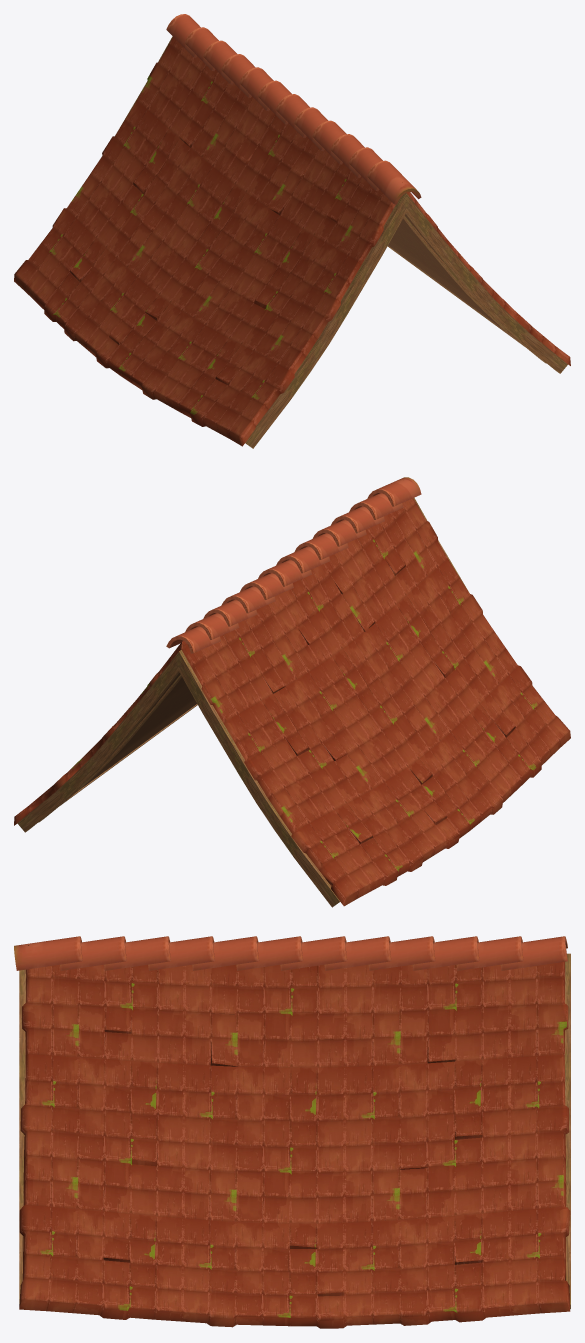
File: Roof_FlatTiles_6x8.gltf
The picture shows the model from 3 angles, top to bottom: view 1: azimuth 30°, elevation 25°; view 2: azimuth 150°, elevation 25°; view 3: azimuth 270°, elevation 25°; orthographic projection. The views are drawn at different scales.
Visible parts, largest first — view 1: Roof_FlatTiles_6x8; view 2: Roof_FlatTiles_6x8; view 3: Roof_FlatTiles_6x8.
Part boxes in pixels (<box>): Roof_FlatTiles_6x8: <box>14,14,570,448</box>; Roof_FlatTiles_6x8: <box>14,477,570,907</box>; Roof_FlatTiles_6x8: <box>14,936,570,1328</box>.
Size of the model in its own units: 8.72 by 5.56 by 9.78.
Materials: 3 (3 with a texture image).
